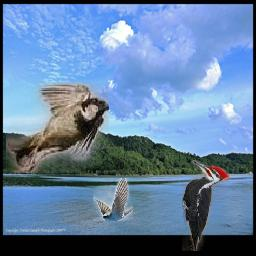Sparrow: (7, 83, 110, 174)
Swallow: (93, 179, 133, 222)
Woodpecker: (183, 161, 230, 252)
